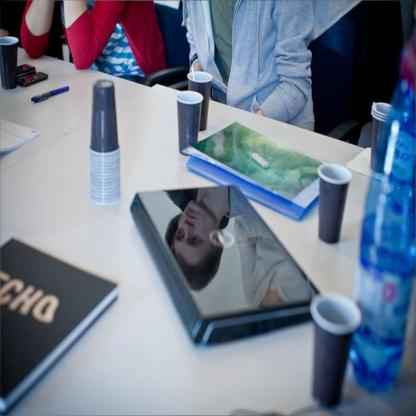board: (142, 169, 333, 344), (350, 70, 416, 393)
